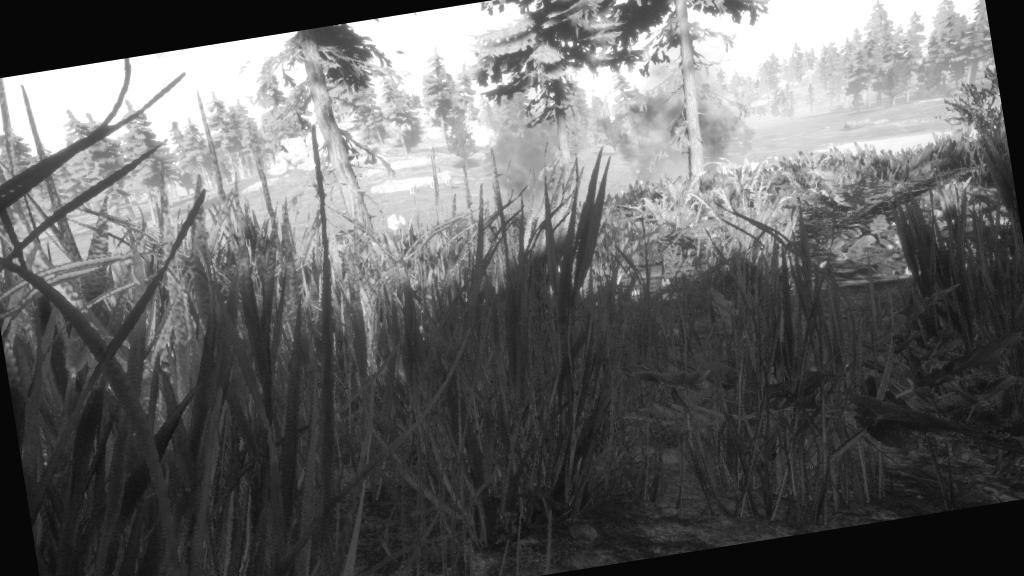Fire: (506, 179, 574, 225)
smoke: (616, 76, 748, 195), (473, 98, 577, 200)
